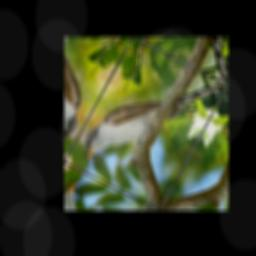Cuckoo: (72, 40, 226, 204)
